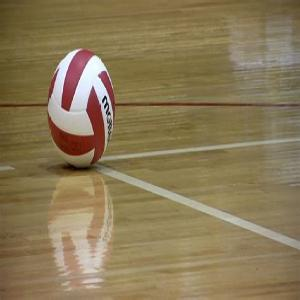Volley: (47, 49, 116, 169)
